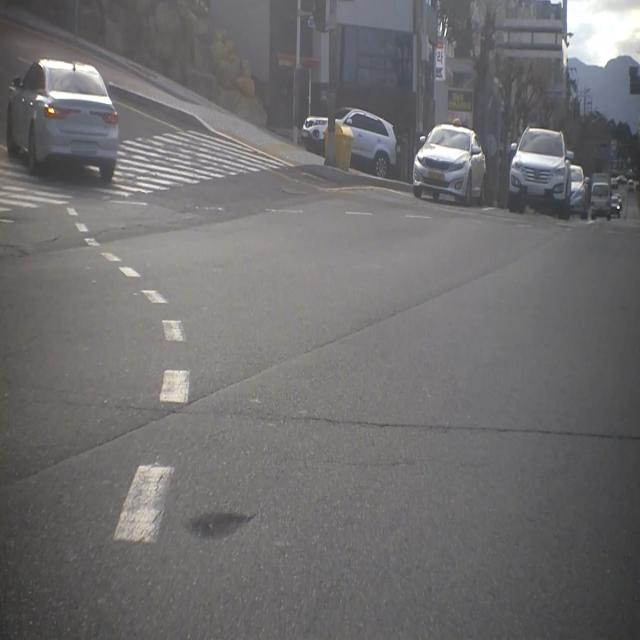Pothole: (183, 502, 263, 556)
